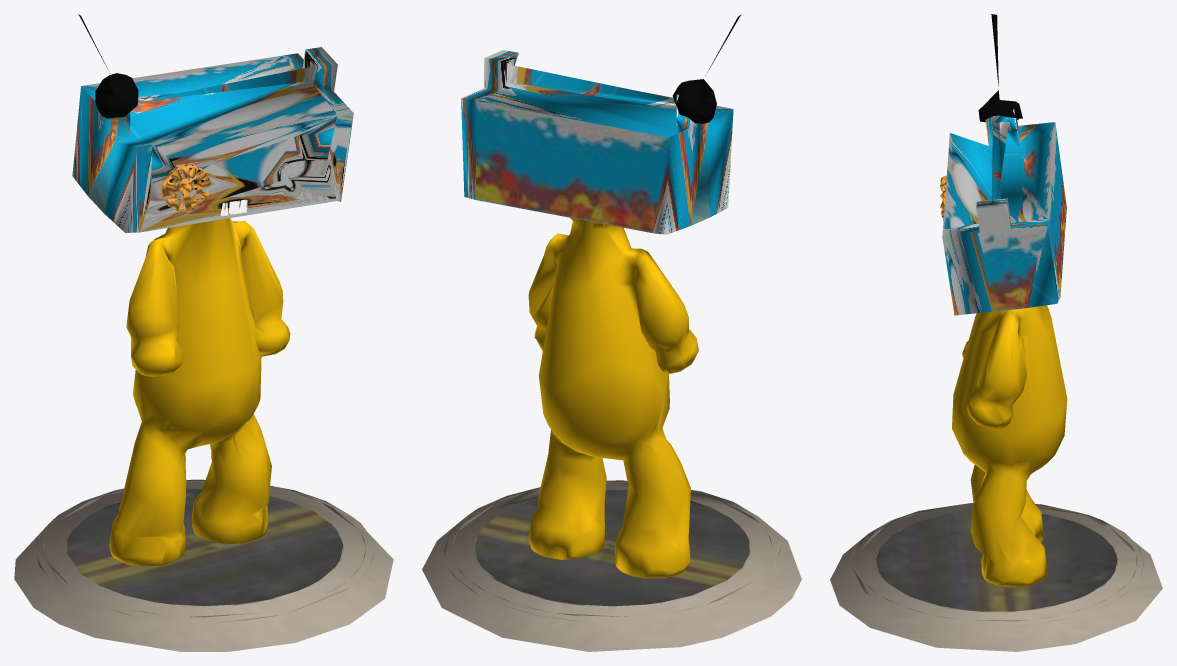
The picture shows the model from 3 angles, left to right: view 1: azimuth 30°, elevation 25°; view 2: azimuth 150°, elevation 25°; view 3: azimuth 270°, elevation 25°; orthographic projection. The views are drawn at different scales.
Bounding box in the file's own units: 1.44 × 2.46 × 1.44.
Materials: 7 (4 with a texture image).
